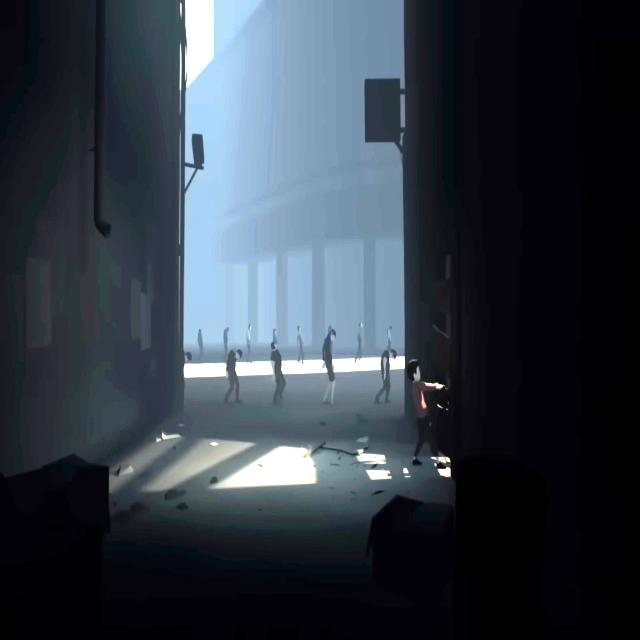boy: (406, 358, 447, 470)
